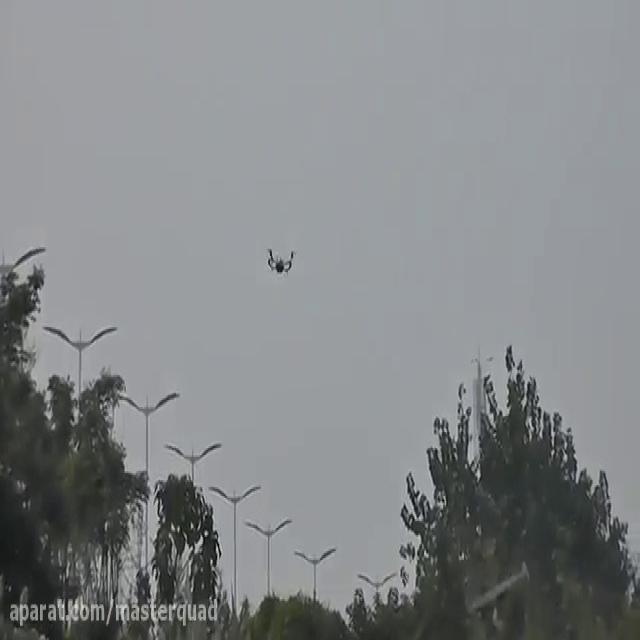drone: (262, 242, 298, 277)
